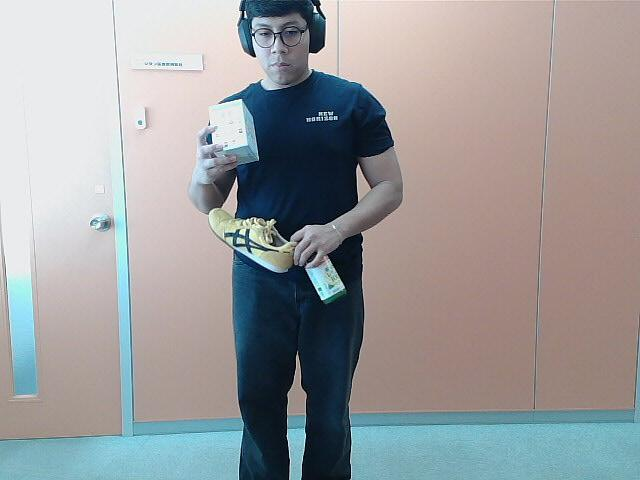Blind_box: (206, 101, 264, 167)
Lemon_sapporo: (301, 231, 347, 307)
Shoes: (203, 202, 305, 274)
